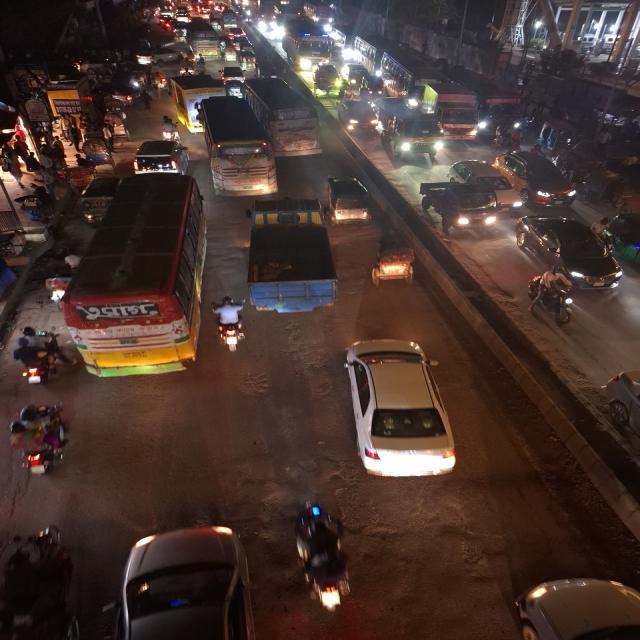bus: (64, 174, 209, 382), (195, 94, 276, 198), (246, 75, 323, 161), (382, 49, 436, 103), (282, 19, 332, 71), (186, 24, 222, 60), (303, 0, 338, 24)
car: (101, 521, 259, 640), (338, 336, 457, 486), (514, 212, 624, 290), (499, 148, 583, 206), (447, 159, 520, 211), (323, 172, 376, 228), (132, 138, 189, 174), (336, 98, 380, 136), (130, 44, 176, 67), (219, 64, 247, 82), (225, 26, 246, 40)
cng: (77, 176, 118, 226), (311, 63, 344, 97), (359, 72, 386, 100), (346, 61, 366, 89), (236, 48, 257, 72), (225, 80, 245, 98)
motorcycle: (290, 499, 361, 617), (8, 401, 72, 482), (523, 266, 579, 326), (11, 327, 64, 387), (209, 295, 250, 355), (41, 267, 75, 306), (158, 115, 181, 142), (152, 69, 170, 93), (178, 55, 197, 75)
pickup_van: (418, 180, 498, 236)
rickshaw: (367, 232, 422, 288), (76, 175, 119, 226), (311, 63, 345, 97), (76, 138, 112, 168), (100, 107, 132, 138), (237, 49, 258, 71)
truck: (243, 213, 342, 317), (422, 80, 484, 140), (380, 112, 443, 162)
